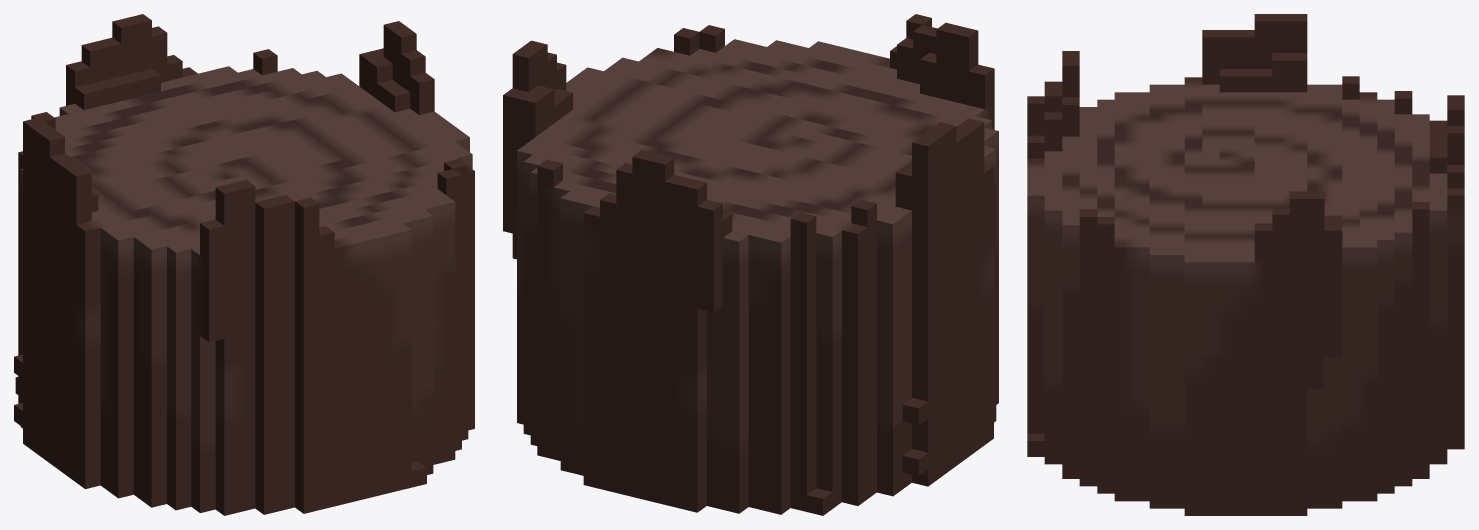
File: stump.fbx
The picture shows the model from 3 angles, left to right: view 1: azimuth 30°, elevation 25°; view 2: azimuth 150°, elevation 25°; view 3: azimuth 270°, elevation 25°; orthographic projection. The views are drawn at different scales.
Parts seen in each view (by area): view 1: stump; view 2: stump; view 3: stump.
Boxes of the visible parts, bbox=[...] form: stump: bbox=[14, 14, 474, 515]; stump: bbox=[503, 14, 998, 515]; stump: bbox=[1027, 14, 1464, 515].
Size of the model in its own units: 25 by 20 by 25.
Materials: 1 (1 with a texture image).
